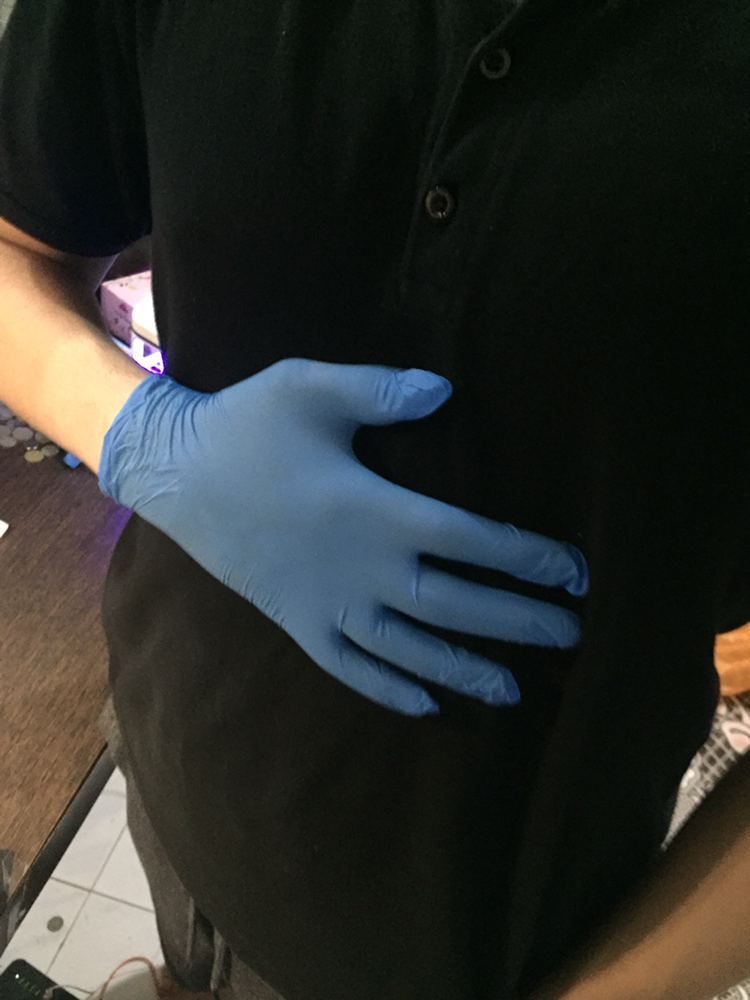glove: (182, 315, 626, 766)
